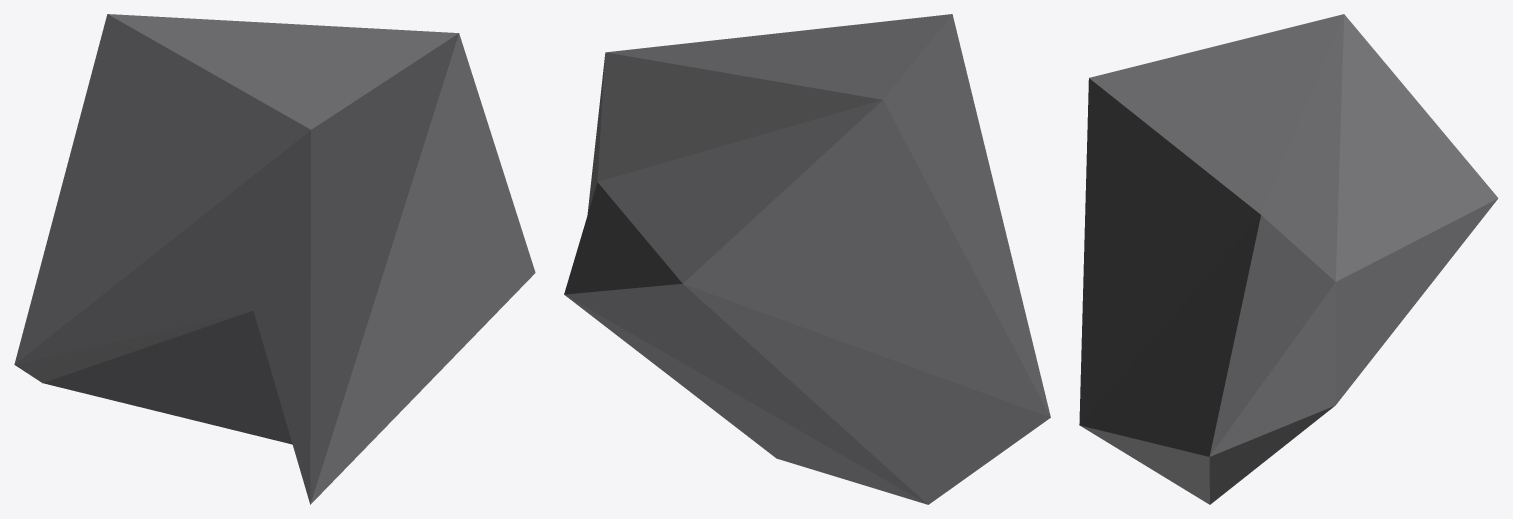
File: Roca C.fbx
The picture shows the model from 3 angles, left to right: view 1: azimuth 30°, elevation 25°; view 2: azimuth 150°, elevation 25°; view 3: azimuth 270°, elevation 25°; orthographic projection. The views are drawn at different scales.
Visible parts, largest first — view 1: polySurface500; view 2: polySurface500; view 3: polySurface500.
Boxes of the visible parts, x1,y1,x2,y2 form: polySurface500: (14,14,535,504); polySurface500: (564,14,1050,504); polySurface500: (1079,14,1498,504).
Size of the model in its own units: 1.28 by 1.1 by 1.02.
